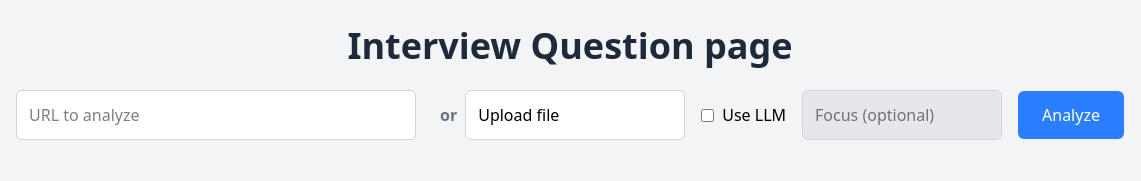
Test: App Component › shows error message if neither URL nor file is provided
Click the button "Analyze" at (1071, 115), box x1=1018 y1=91 x2=1124 y2=139
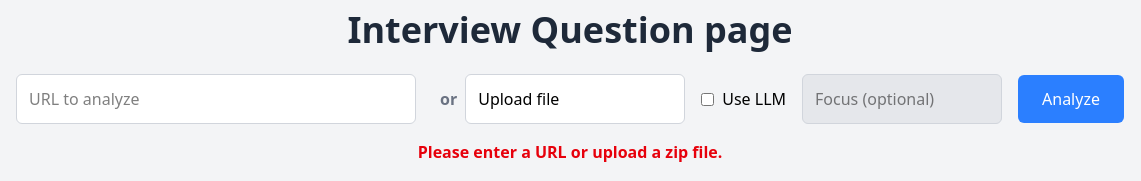
Result: the text "Please enter a URL or upload a zip file." is shown at x1=418 y1=140 x2=722 y2=164
